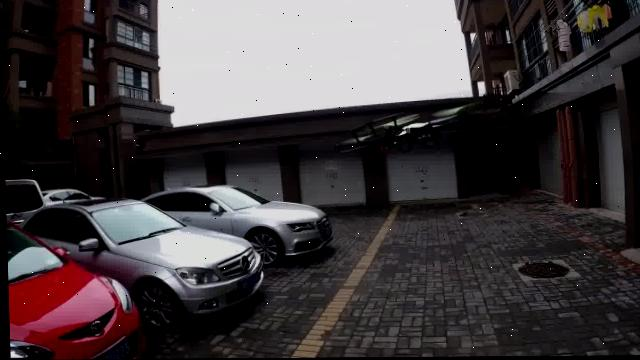drone: (331, 96, 487, 169)
